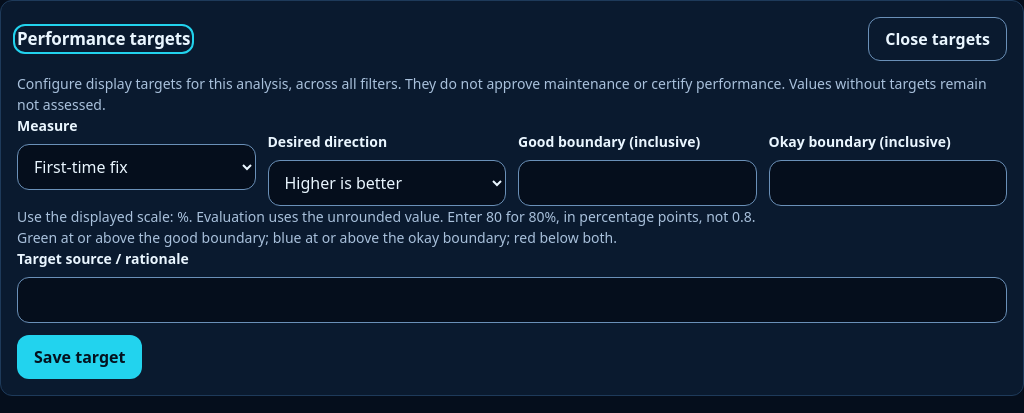
Scenario: aborts a pending save when the editor unmounts and ignores its late result
Select "Repeat failures" in the dropdown labelled "Measure": (136, 167) [17,144,256,190]
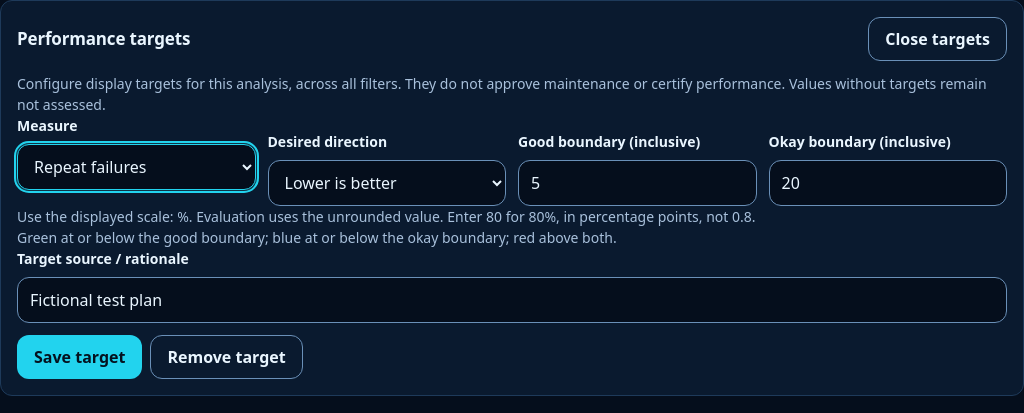
Click the button "Save target": (80, 357) [17,335,142,379]
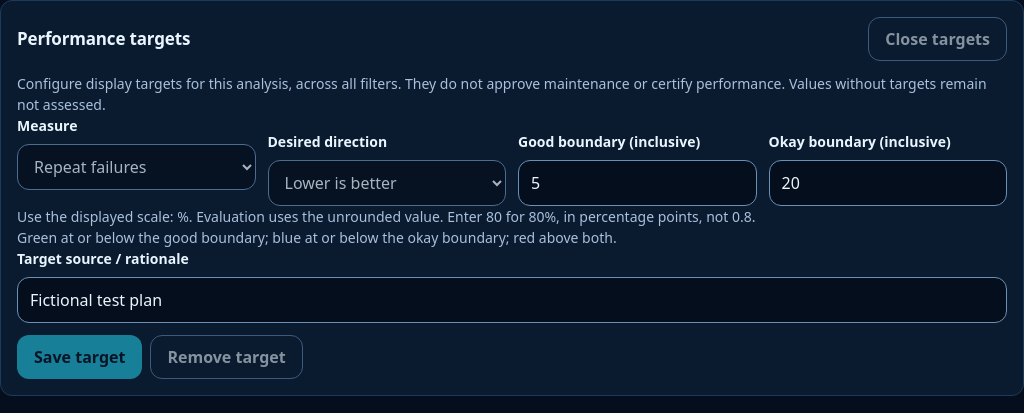
Expected: the button "Close targets" is disabled, [868,17,1007,61]
